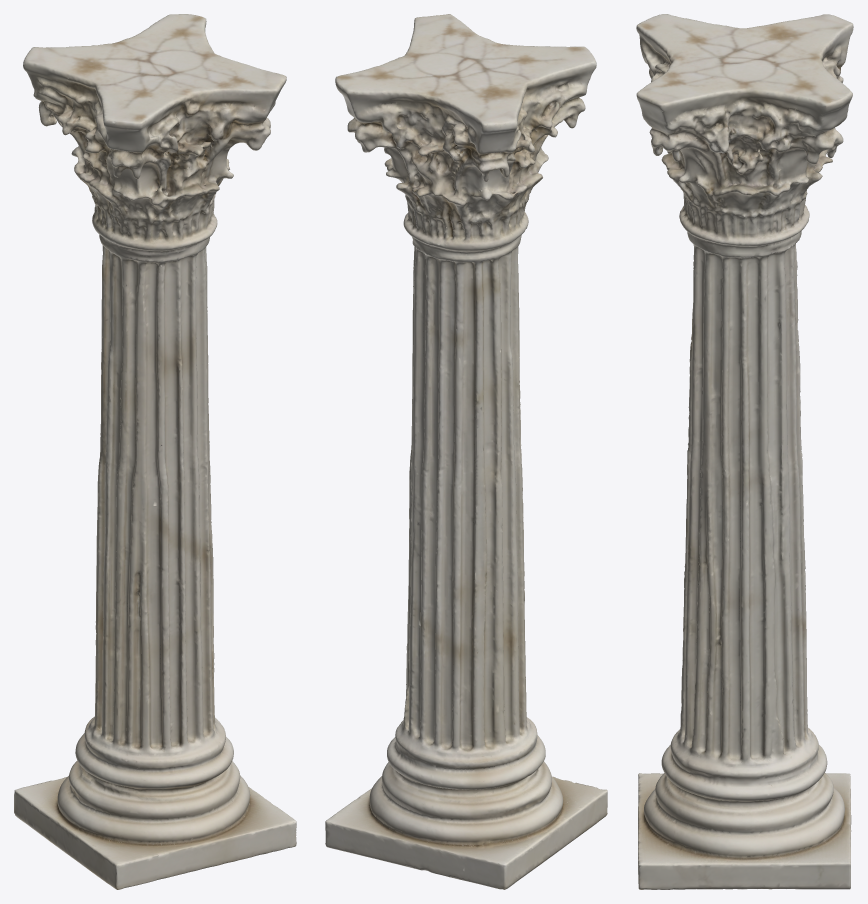
File: Meshy_AI_Corinthian_Marble_Col_0512113904_texture.fbx
3 views of the same model, side by side, from view 1: azimuth 30°, elevation 25°; view 2: azimuth 150°, elevation 25°; view 3: azimuth 270°, elevation 25° (orthographic). The views are drawn at different scales.
Visible parts, largest first — view 1: Mesh_0; view 2: Mesh_0; view 3: Mesh_0.
Boxes of the visible parts, x1,y1,x2,y2 form: Mesh_0: (14, 14, 296, 889); Mesh_0: (325, 14, 607, 889); Mesh_0: (636, 14, 853, 889).
Size of the model in its own units: 49.97 by 200 by 49.99.
1 material, 1 textured.
